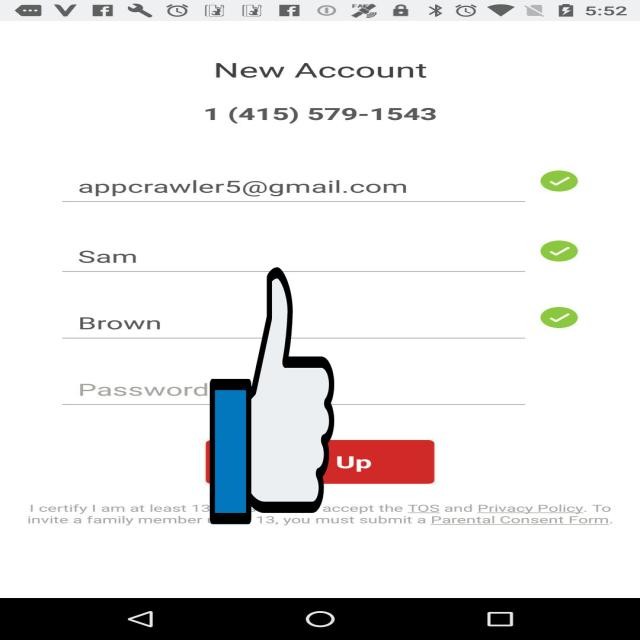privacy zuckering: (210, 262, 334, 530)
